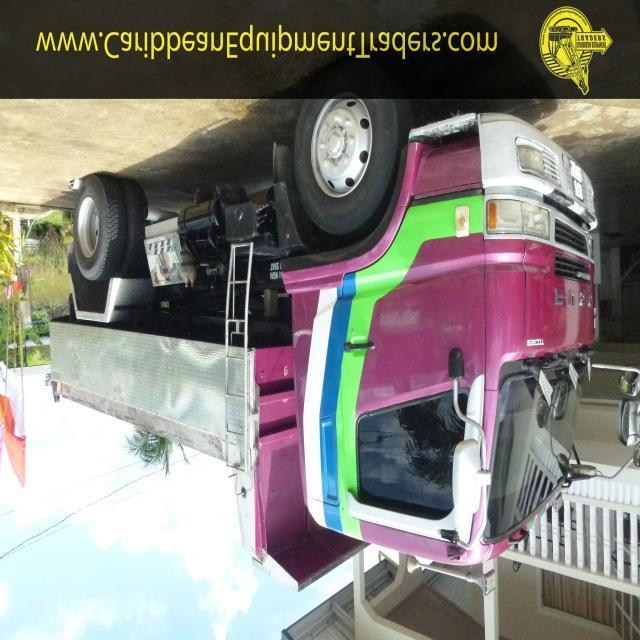truck: (47, 97, 638, 594)
